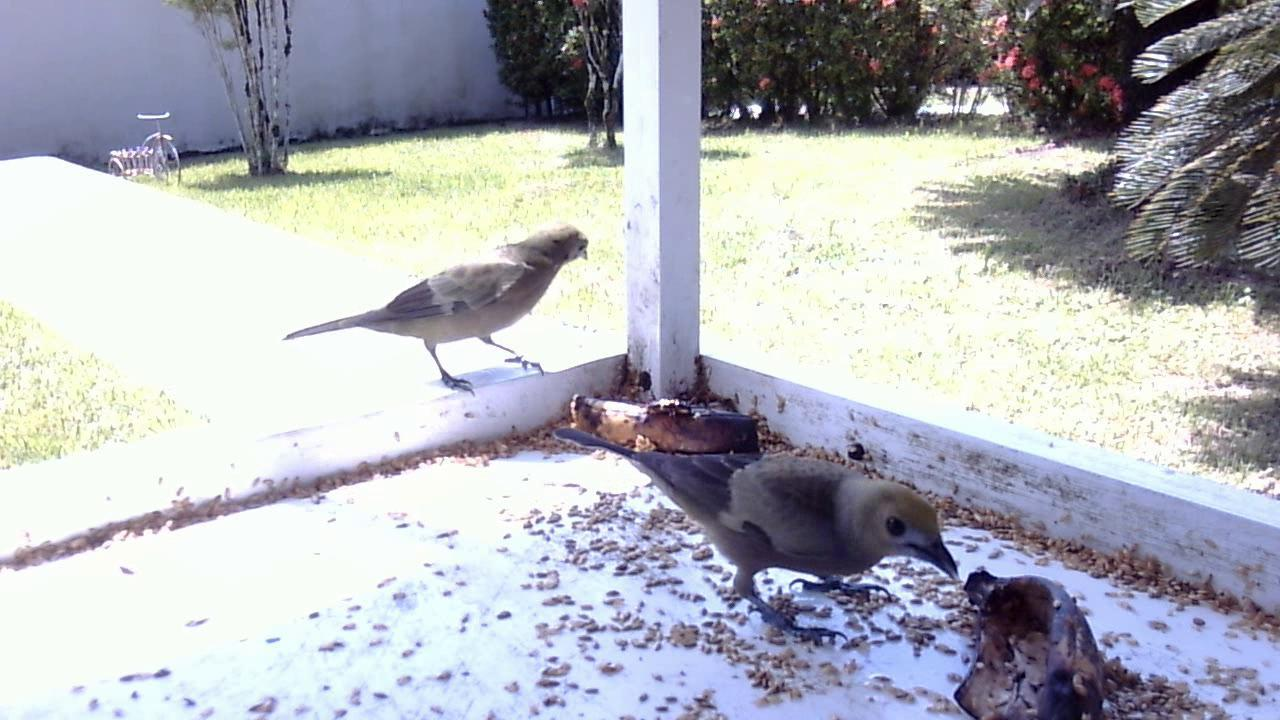sanhaco_do_coqueiro: (548, 414, 960, 647), (283, 223, 592, 406)
